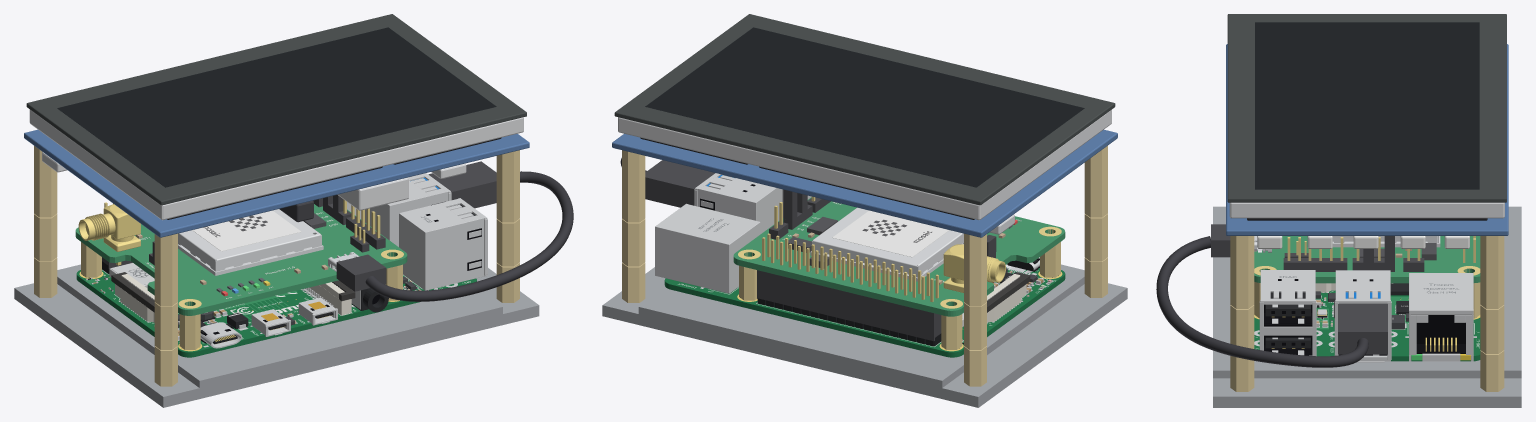
Rendered from mosaic.glb.
The picture shows the model from 3 angles, left to right: view 1: azimuth 30°, elevation 25°; view 2: azimuth 150°, elevation 25°; view 3: azimuth 270°, elevation 25°; orthographic projection. The views are drawn at different scales.
Parts seen in each view (by area): view 1: disp_screen, tray_case, disp_glass, pi_silver, hat_pcb, disp_pcb, lcd_shield, pi_pcb, hat_mosaic, hat_usb_cable, hat_mosaic_label, hat_sma (+19 smaller); view 2: disp_screen, tray_case, disp_glass, pi_silver, disp_pcb, hat_pcb, lcd_shield, hat_socket, hat_gold, pi_pcb, hat_mosaic, hat_mosaic_label (+19 smaller); view 3: disp_screen, tray_case, disp_glass, pi_silver, disp_pcb, lcd_shield, hat_usb_cable, hat_pcb, pi_cavity, hat_usb_plug_a, pi_pcb, standoff_long.008 (+22 smaller).
Part boxes in pixels (<box>): disp_screen: <box>57,27,496,187</box>; tray_case: <box>14,264,539,407</box>; disp_glass: <box>26,14,526,205</box>; pi_silver: <box>86,173,487,348</box>; hat_pcb: <box>75,204,407,315</box>; disp_pcb: <box>24,129,529,237</box>; lcd_shield: <box>29,109,523,220</box>; pi_pcb: <box>76,269,476,357</box>; hat_mosaic: <box>178,209,323,275</box>; hat_usb_cable: <box>365,171,573,301</box>; hat_mosaic_label: <box>192,210,301,251</box>; hat_sma: <box>78,204,140,265</box>; disp_screen: <box>645,27,1084,187</box>; tray_case: <box>602,264,1127,407</box>; disp_glass: <box>614,14,1115,205</box>; pi_silver: <box>655,173,1052,340</box>; disp_pcb: <box>612,129,1117,237</box>; hat_pcb: <box>733,197,1065,316</box>; lcd_shield: <box>618,109,1111,219</box>; hat_socket: <box>757,270,941,341</box>; hat_gold: <box>738,196,1061,308</box>; pi_pcb: <box>664,267,1065,357</box>; hat_mosaic: <box>810,207,963,281</box>; hat_mosaic_label: <box>832,210,949,257</box>; disp_screen: <box>1255,22,1479,189</box>; tray_case: <box>1213,206,1521,407</box>; disp_glass: <box>1227,14,1506,202</box>; pi_silver: <box>1259,270,1473,362</box>; disp_pcb: <box>1226,44,1508,235</box>; lcd_shield: <box>1229,202,1504,218</box>; hat_usb_cable: <box>1156,236,1368,367</box>; hat_pcb: <box>1254,236,1480,283</box>; pi_cavity: <box>1264,279,1465,355</box>; hat_usb_plug_a: <box>1338,303,1387,354</box>; pi_pcb: <box>1254,290,1480,361</box>; standoff_long.008: <box>1230,236,1254,308</box>.
Size of the model in its own units: 128 by 54.82 by 87.59.
